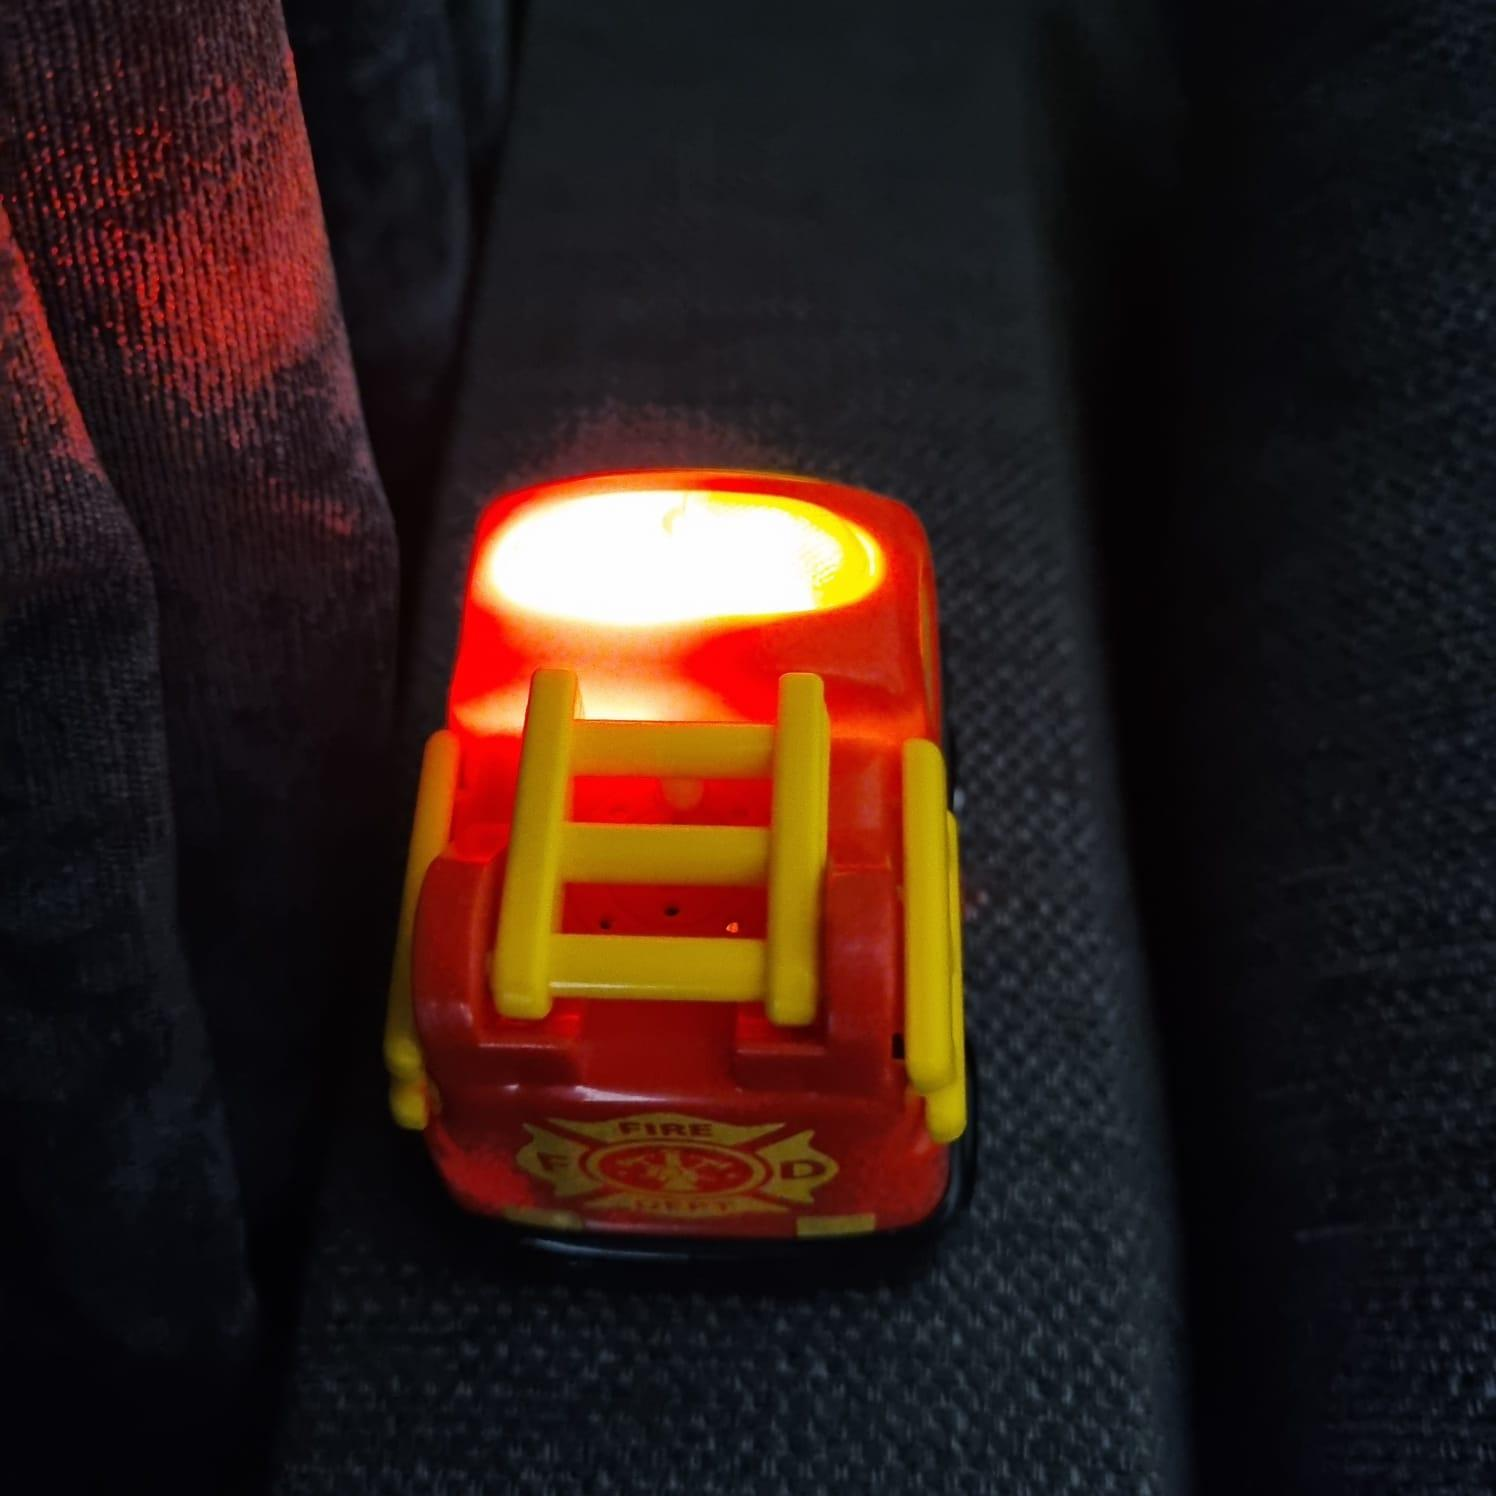firetruck_on: (384, 467, 981, 1273)
